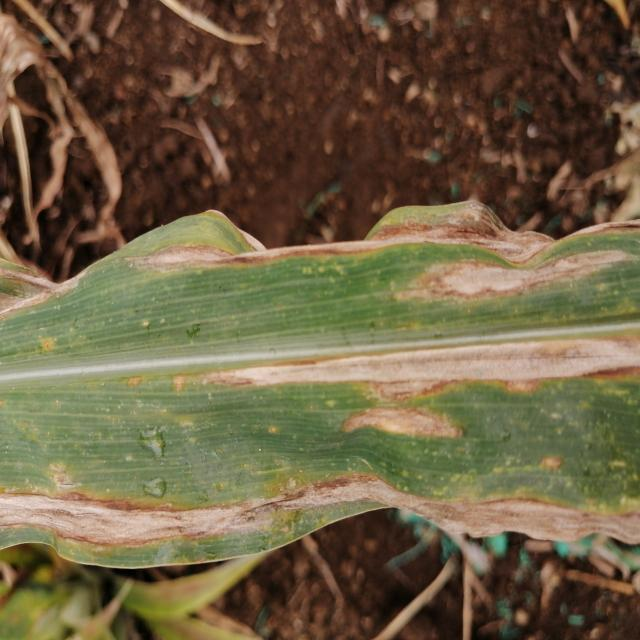Corn_Leaf_Blight: (0, 195, 640, 561)
